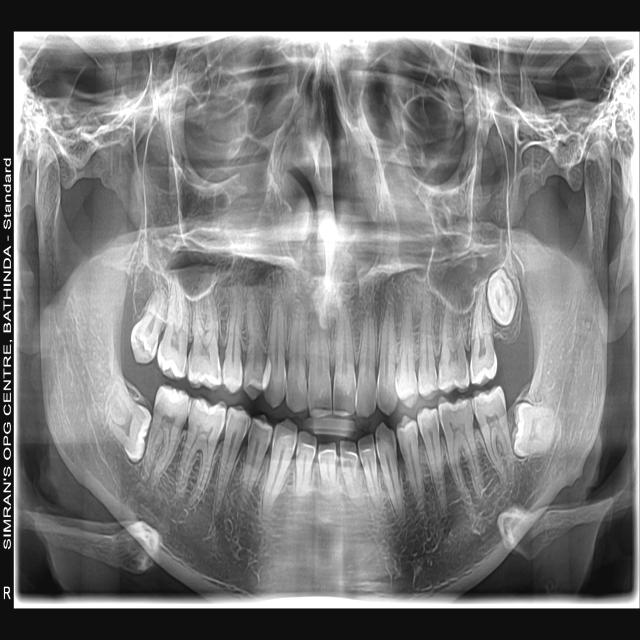impacted tooth: (106, 375, 151, 463), (514, 402, 555, 457)
